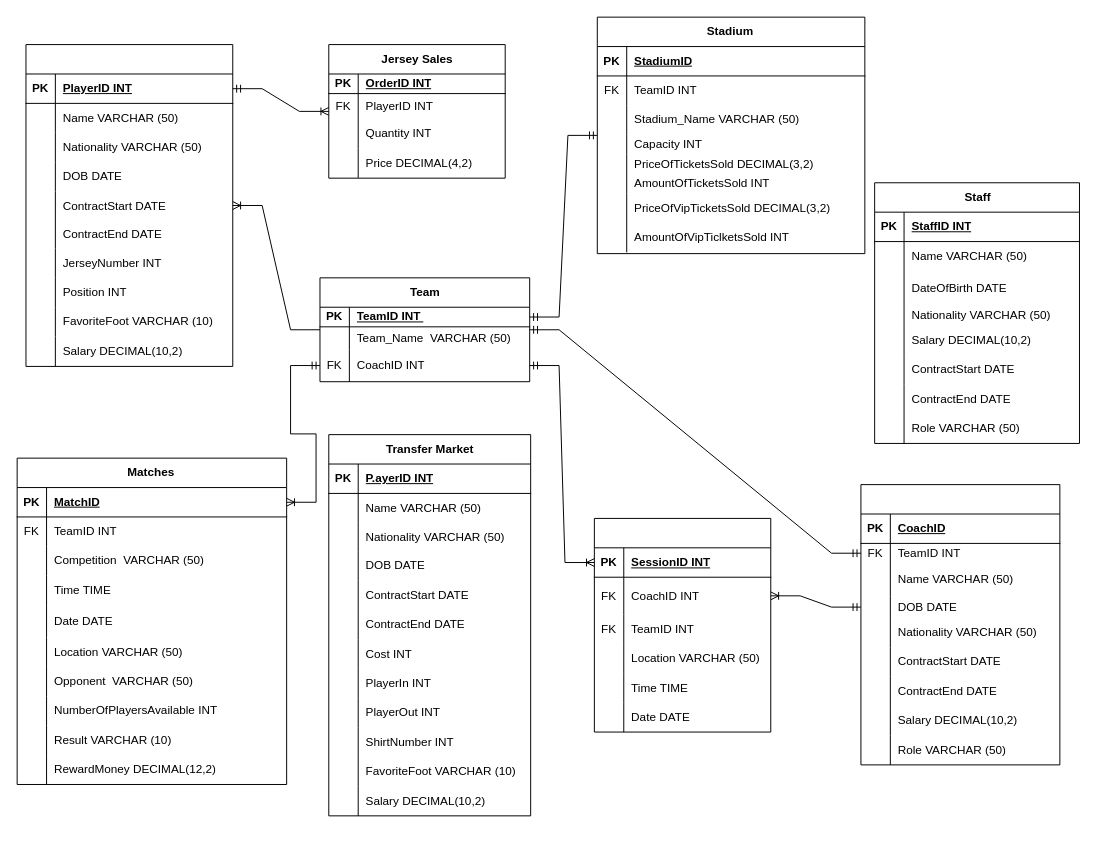
Image size: 1097x853. Some labels were removed from this diagram. The box of each missing label's shape, as (x1, y1, x2, y2) in pixels:
Coaches: (860, 484, 1060, 765)
Players: (25, 44, 233, 366)
Training: (593, 517, 771, 732)
